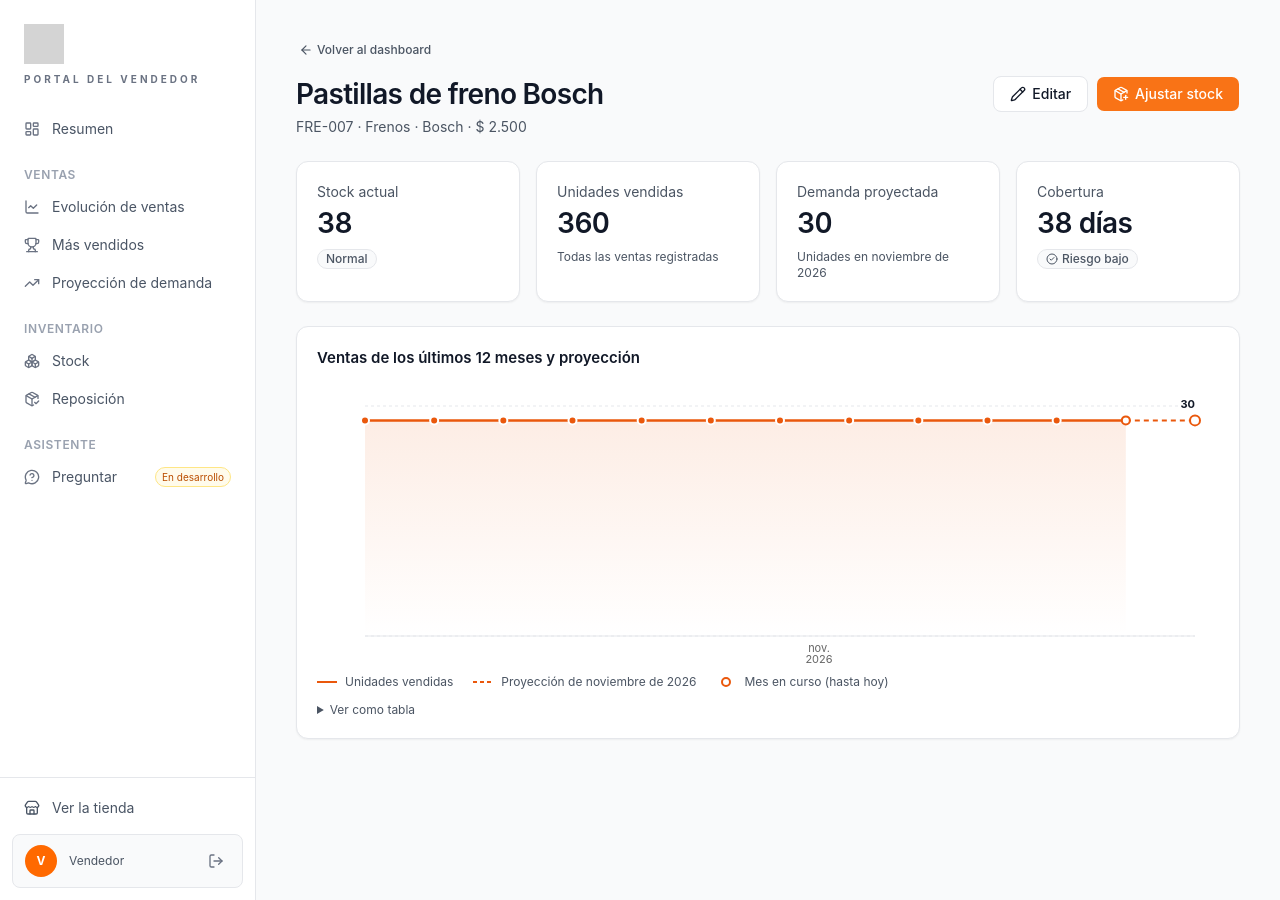
Scenario: does not send a stock that is not a whole number
This screenshot has width=1280, height=900.
Step 1. Click the button "Ajustar stock" → (1168, 94), box [1096,76,1240,112]
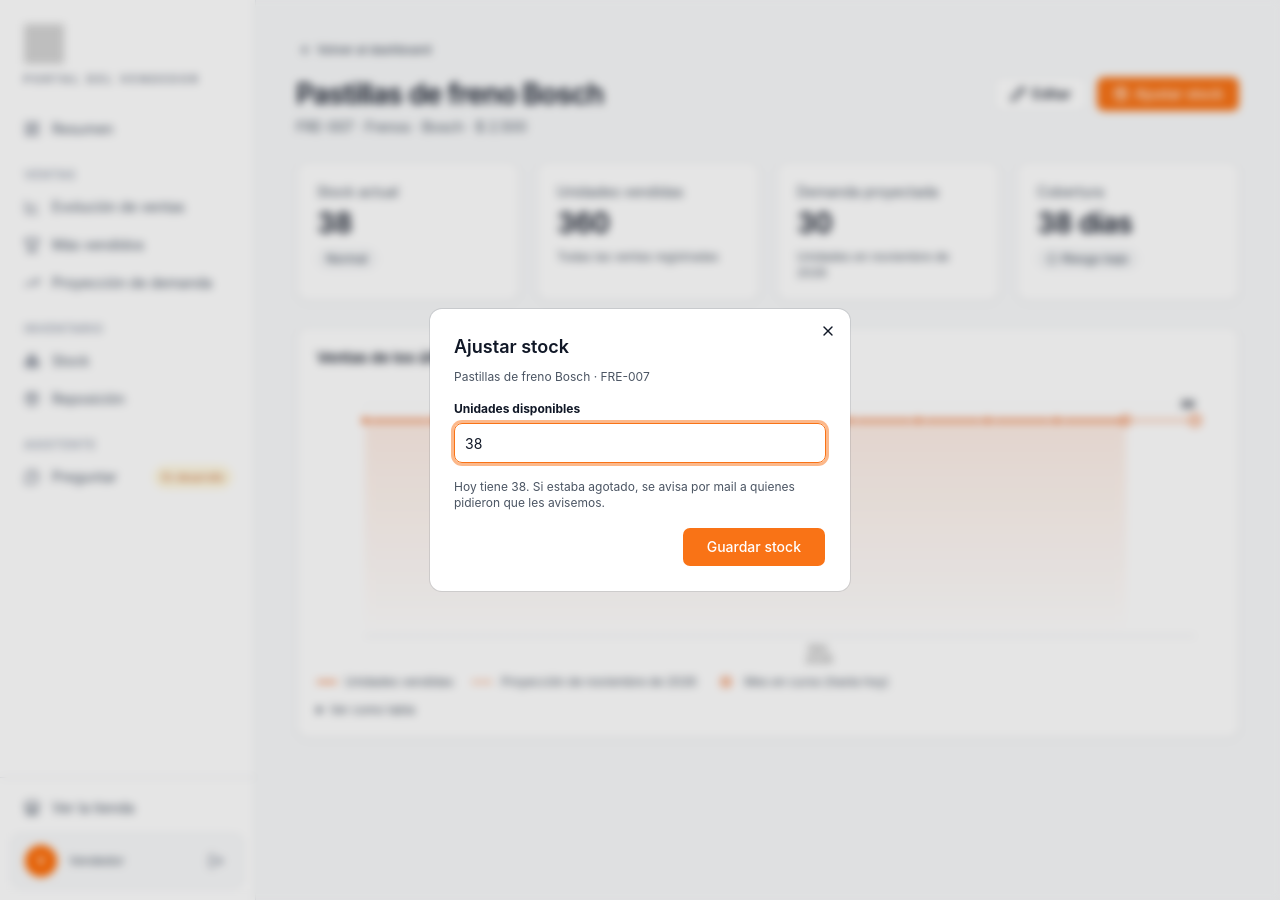
Step 2. Replace the text in the field labelled "Unidades disponibles" with "-3" → (640, 443), box [454,423,826,463]
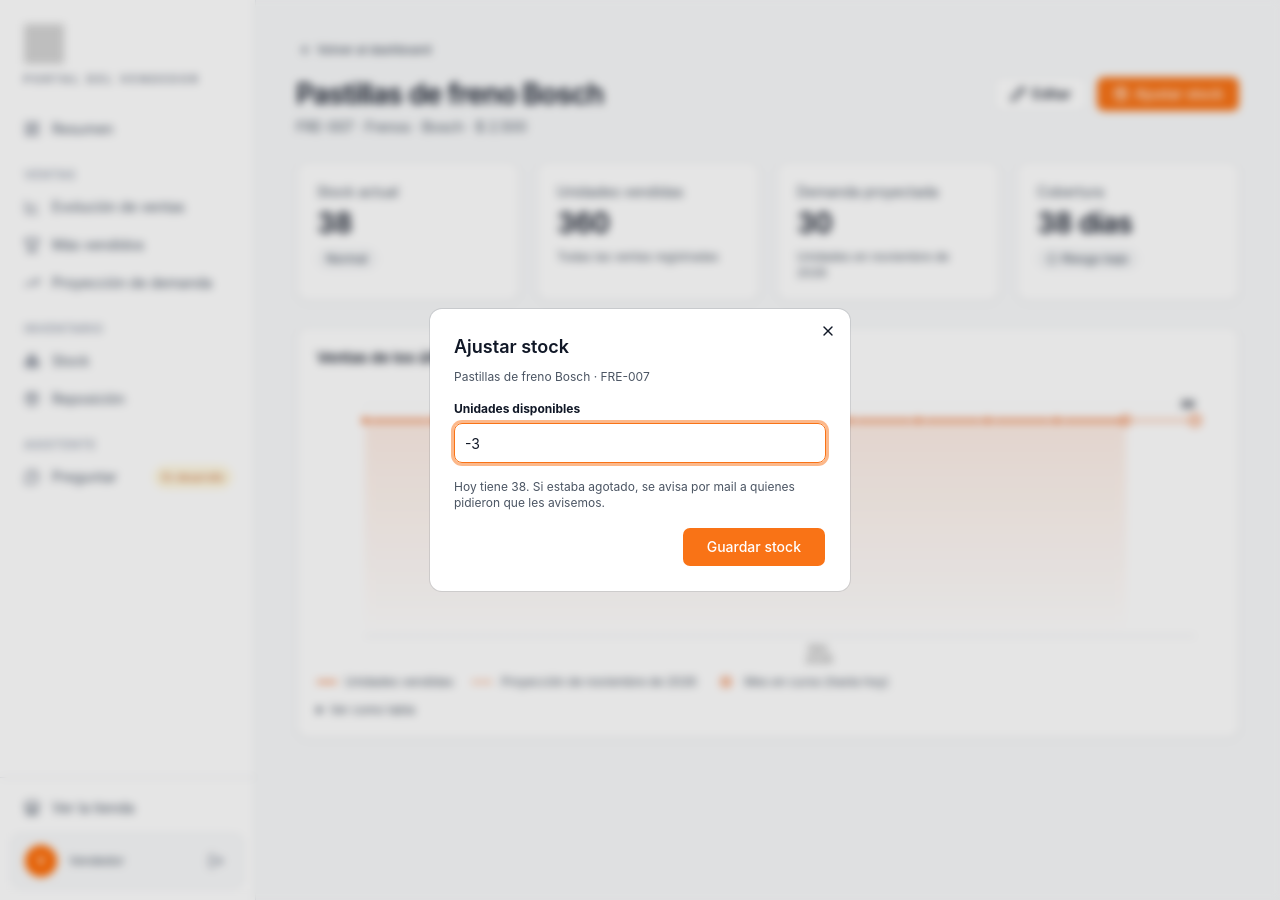
Step 3. Click the button "Guardar stock" → (754, 547), box [682,527,826,567]
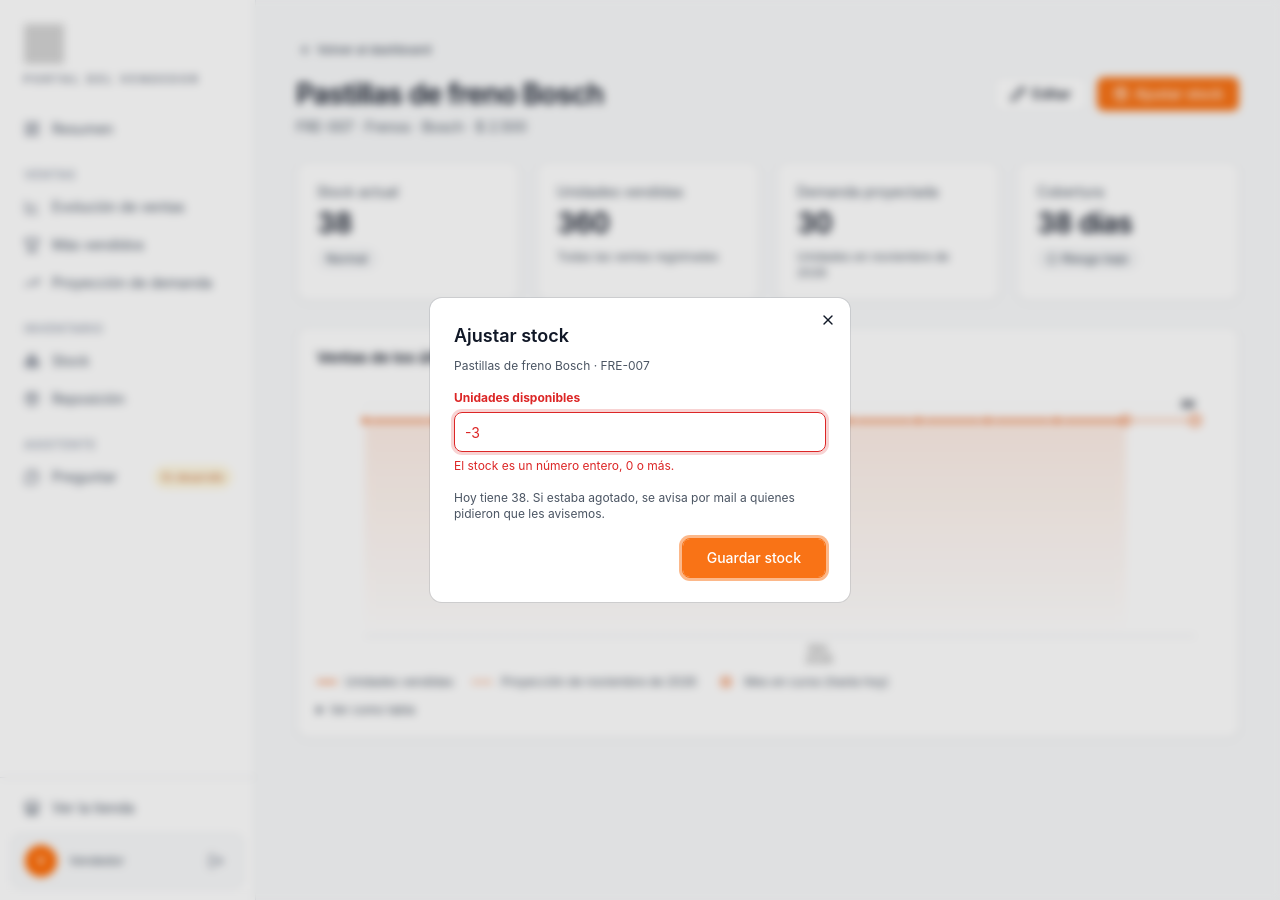
Check: the text "El stock es un número entero, 0 o más." is shown, box [454,458,674,473]
